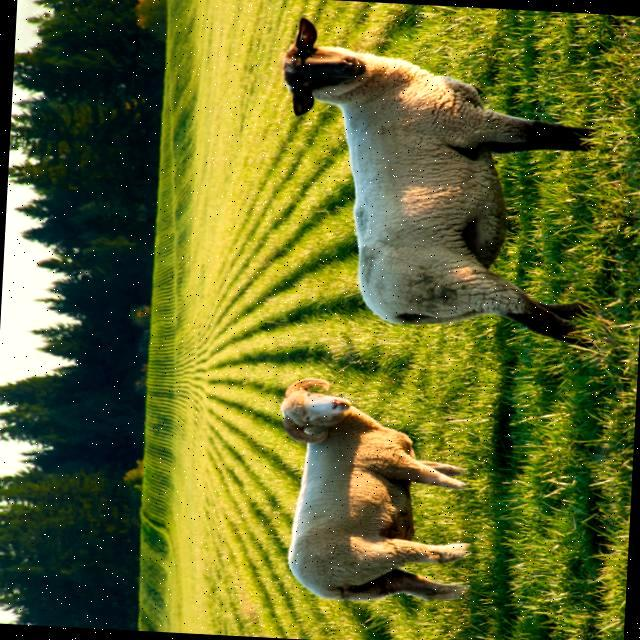sheep: (282, 18, 590, 343), (280, 380, 465, 601)
